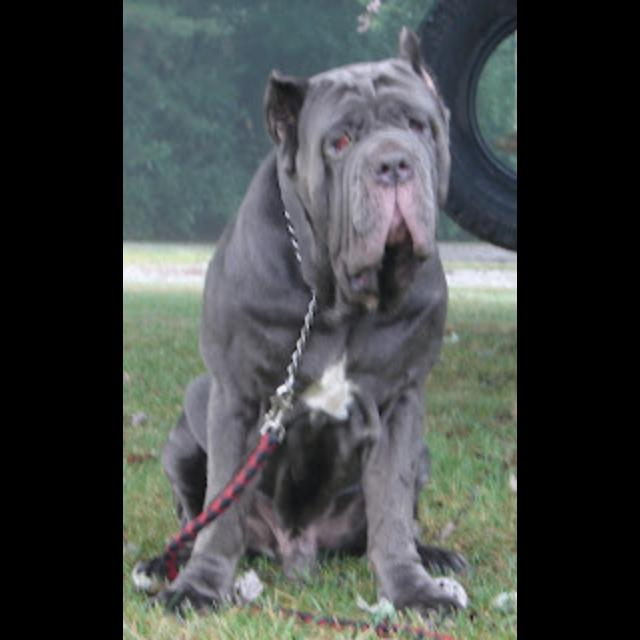mastino_napoletano: (132, 25, 472, 621)
